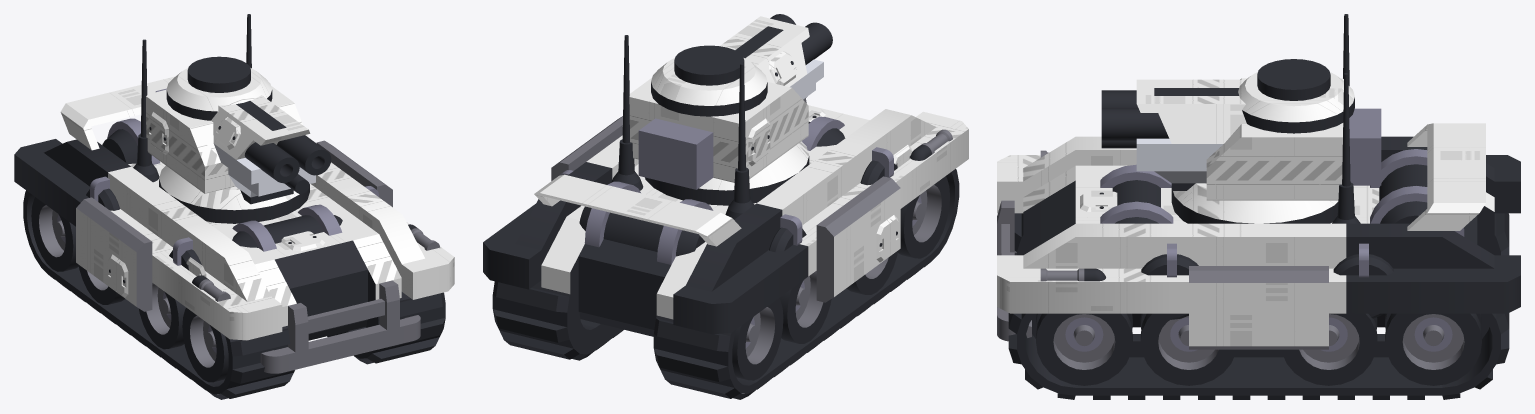
The model's file is tank_battleB.fbx.
3 views of the same model, side by side, from view 1: azimuth 30°, elevation 25°; view 2: azimuth 150°, elevation 25°; view 3: azimuth 270°, elevation 25° (orthographic). The views are drawn at different scales.
Visible parts, largest first — view 1: tank_skirtEdge (×3), tank_skirtPlating (×2), body_frontTank, tank_turretRing (×2), track_wideSmoothSide (×3), largeBlaster_barrelDouble, wheel_tank (×4), bumper_large, tank_turretBlock, detail_tank (×2), spoiler_small, detail_panelBolts (×3) (+6 smaller); view 2: tank_skirtEdge (×3), track_wideSmoothSide (×3), tank_skirtPlating (×2), body_frontTank (×2), tank_turretBlock, tank_turretRing (×2), wheel_tank (×4), spoiler_small, detail_tank (×2), largeBlaster_barrelDouble, detail_antenna (×2), track_wideSmoothCenter (+5 smaller); view 3: tank_skirtEdge (×4), wheel_tank (×4), tank_skirtPlating, tank_turretBlock, largeBlaster_barrelDouble, track_wideSmoothSide (×4), tank_turretRing (×2), body_frontTank (×2), detail_tank (×2), spoiler_small, track_wideSmoothCenter, detail_tireAttachment (×2) (+4 smaller).
Boxes of the visible parts, x1,y1,x2,y2 form: tank_skirtEdge (×3): [14, 139, 454, 340]; tank_skirtPlating (×2): [76, 140, 392, 311]; body_frontTank: [221, 203, 401, 340]; tank_turretRing (×2): [159, 56, 309, 223]; track_wideSmoothSide (×3): [23, 190, 445, 399]; largeBlaster_barrelDouble: [211, 95, 331, 204]; wheel_tank (×4): [31, 197, 228, 382]; bumper_large: [260, 280, 420, 373]; tank_turretBlock: [146, 86, 307, 193]; detail_tank (×2): [102, 118, 342, 251]; spoiler_small: [60, 76, 175, 150]; detail_panelBolts (×3): [108, 112, 324, 297]; tank_skirtEdge (×3): [483, 109, 968, 334]; track_wideSmoothSide (×3): [492, 169, 959, 399]; tank_skirtPlating (×2): [551, 116, 900, 302]; body_frontTank (×2): [541, 105, 869, 336]; tank_turretBlock: [629, 78, 808, 189]; tank_turretRing (×2): [645, 45, 809, 205]; wheel_tank (×4): [732, 176, 949, 380]; spoiler_small: [534, 174, 741, 246]; detail_tank (×2): [579, 116, 845, 264]; largeBlaster_barrelDouble: [720, 14, 832, 100]; detail_antenna (×2): [611, 35, 754, 219]; track_wideSmoothCenter: [780, 287, 885, 360]; tank_skirtEdge (×4): [997, 136, 1520, 313]; wheel_tank (×4): [1036, 313, 1481, 385]; tank_skirtPlating: [1171, 223, 1346, 349]; tank_turretBlock: [1206, 78, 1381, 200]; largeBlaster_barrelDouble: [1101, 79, 1246, 190]; track_wideSmoothSide (×4): [1008, 213, 1509, 399]; tank_turretRing (×2): [1171, 59, 1354, 223]; body_frontTank (×2): [1023, 165, 1494, 327]; detail_tank (×2): [1100, 149, 1464, 236]; spoiler_small: [1407, 123, 1485, 230]; track_wideSmoothCenter: [1171, 349, 1346, 399]; detail_tireAttachment (×2): [1141, 243, 1393, 319].
Size of the model in its own units: 20 by 18.9 by 30.
